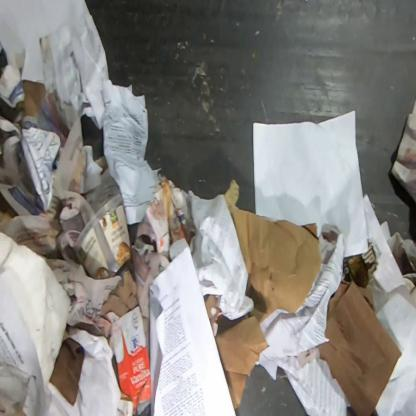cardboard: (214, 179, 323, 410), (314, 279, 403, 415), (103, 306, 151, 415), (15, 79, 47, 118)
rigid_plastic: (72, 193, 132, 279)
